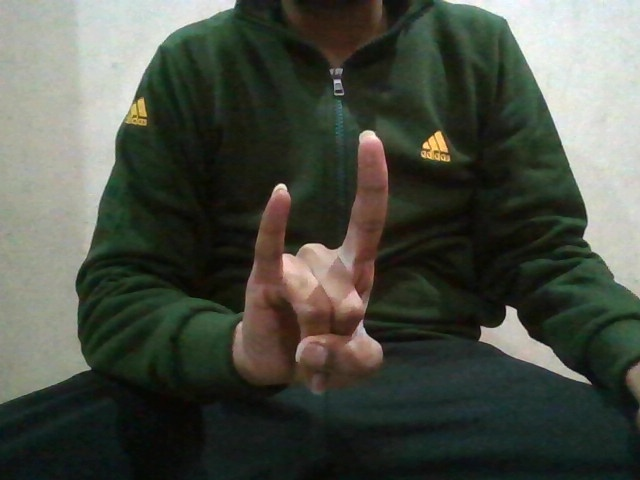U: (243, 132, 397, 398)
